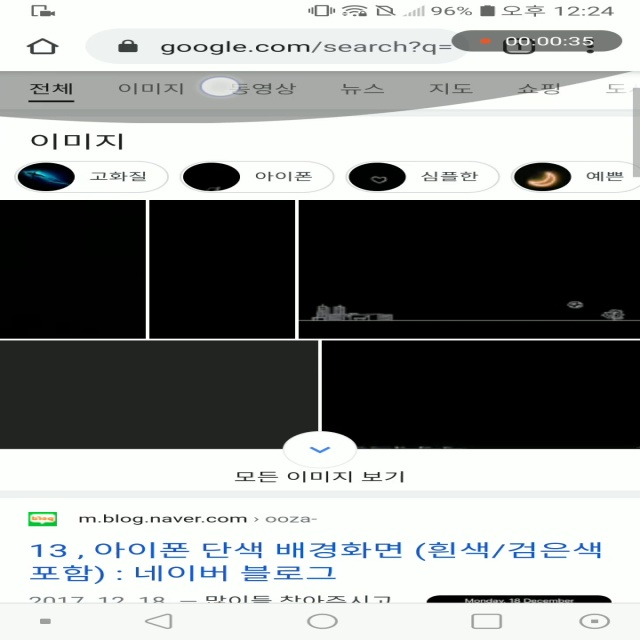Cursor: (198, 76, 242, 98)
